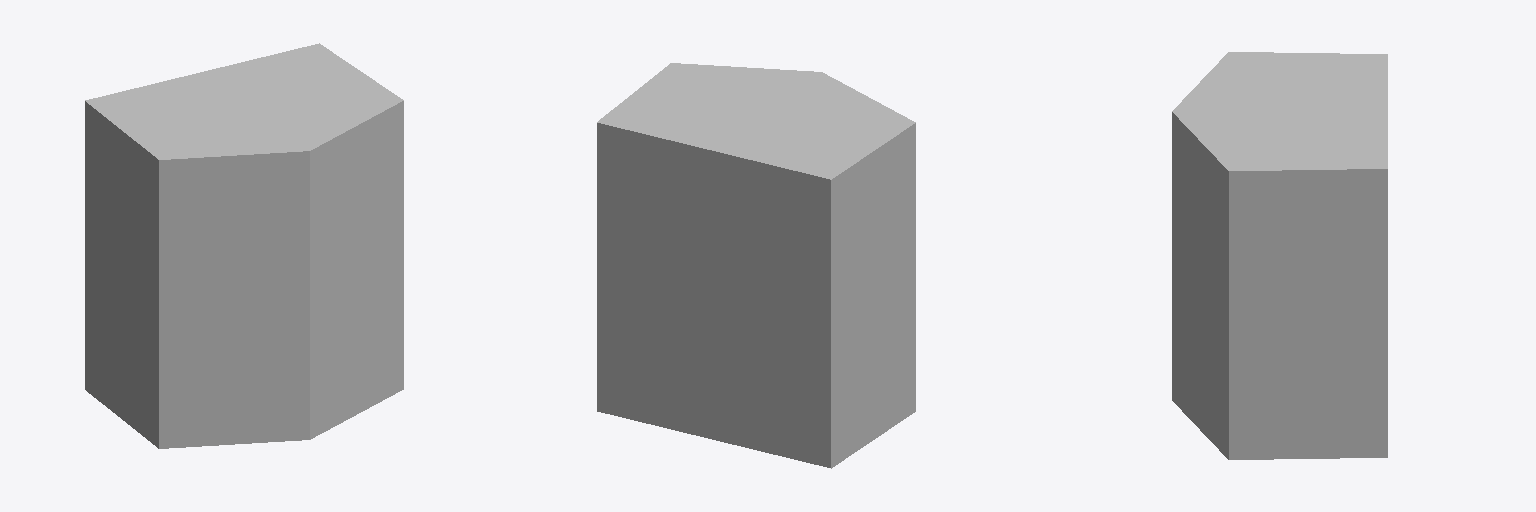
File: LeKeil_Uber.obj
3 renders of one model, left to right at view 1: azimuth 30°, elevation 25°; view 2: azimuth 150°, elevation 25°; view 3: azimuth 270°, elevation 25°, orthographic.
Bounding box in the file's own units: 0.8871 × 1 × 0.6779.